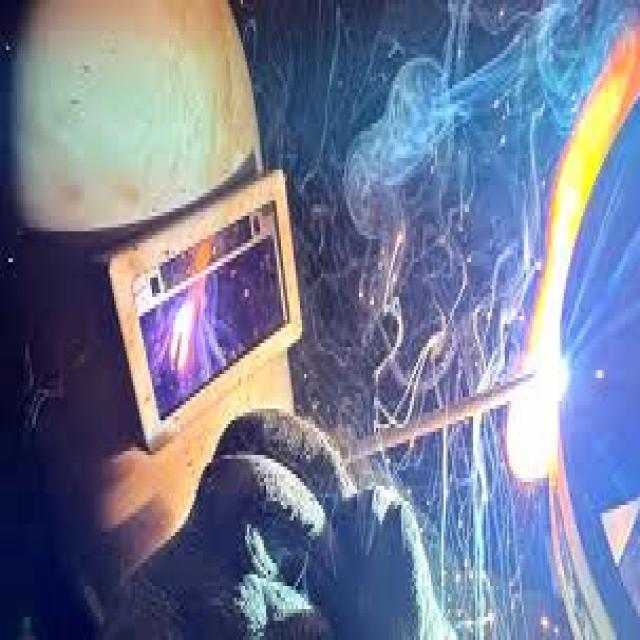welding: (530, 347, 572, 407)
